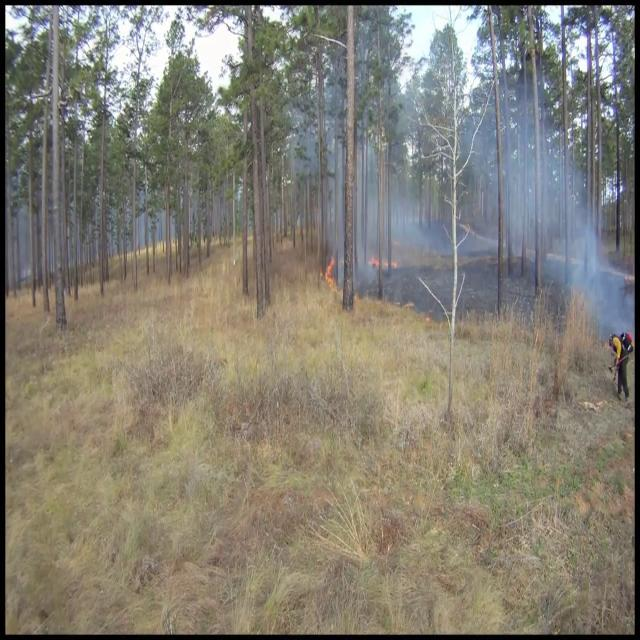Fire: (322, 252, 338, 290)
Smoke: (489, 70, 627, 340), (323, 125, 422, 283)
